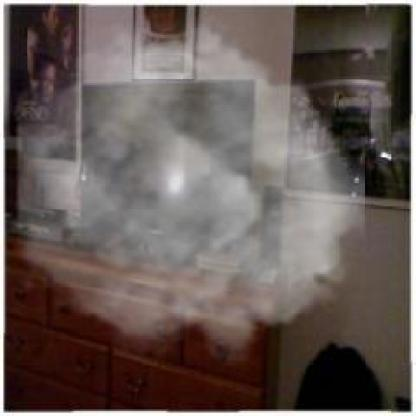Smoke: (16, 9, 365, 366)
